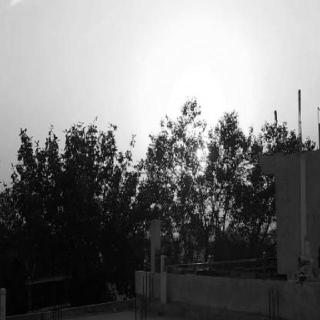other: (158, 68, 238, 164)
